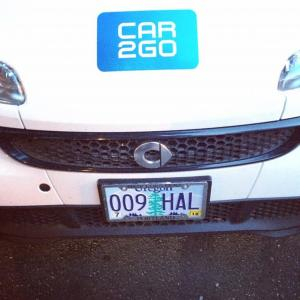Vehicle-registration-plate: (100, 181, 209, 226)
